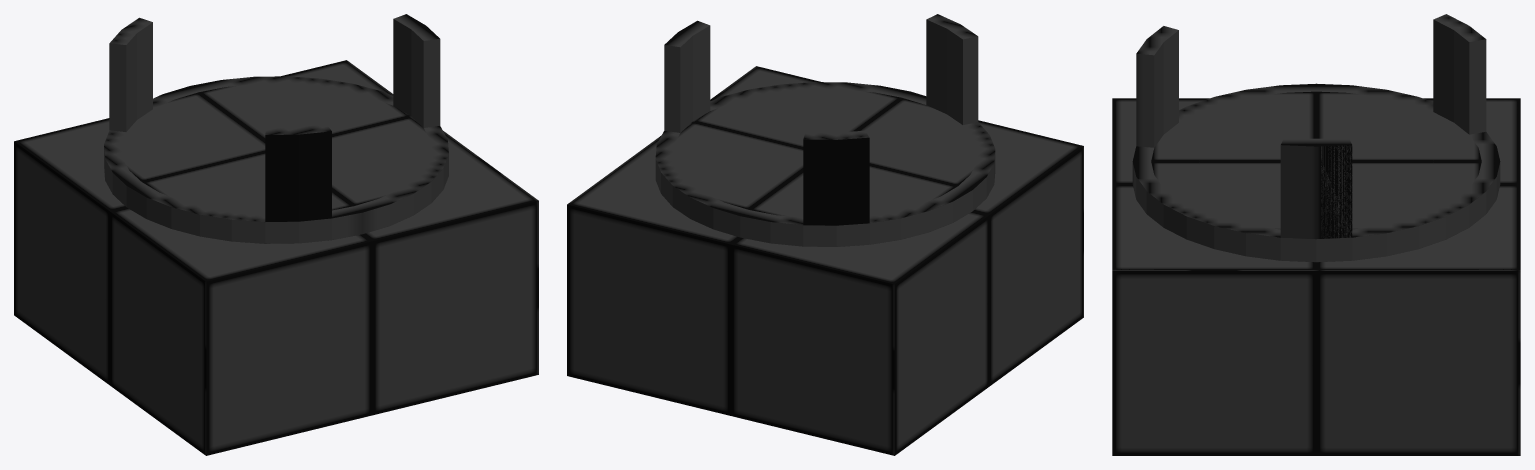
File: funnel.obj
The picture shows the model from 3 angles, left to right: view 1: azimuth 30°, elevation 25°; view 2: azimuth 150°, elevation 25°; view 3: azimuth 270°, elevation 25°; orthographic projection. The views are drawn at different scales.
Parts seen in each view (by area): view 1: Cylinder; view 2: Cylinder; view 3: Cylinder.
Boxes of the visible parts, x1=… form: Cylinder: x1=14, y1=14, x2=538, y2=455; Cylinder: x1=567, y1=14, x2=1083, y2=455; Cylinder: x1=1112, y1=14, x2=1520, y2=455.
Size of the model in its own units: 2 by 1.62 by 2.
